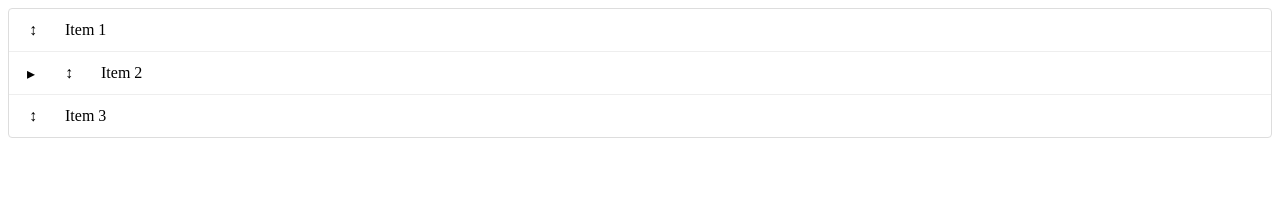
Scenario: CList › expandable children and lazy loading › keeps draggable classes and handles when nested rendering is enabled
Click the button named "Expand item 2".
click(31, 73)  # box [17,57,45,89]
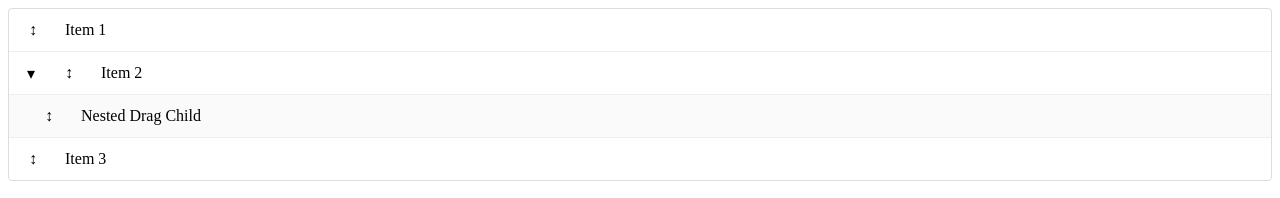
Now the number of list items with class "cm-list__item--draggable" is 4, box [9,9,1271,52]; [9,52,1271,138]; [33,100,201,132]; [17,143,106,175]
